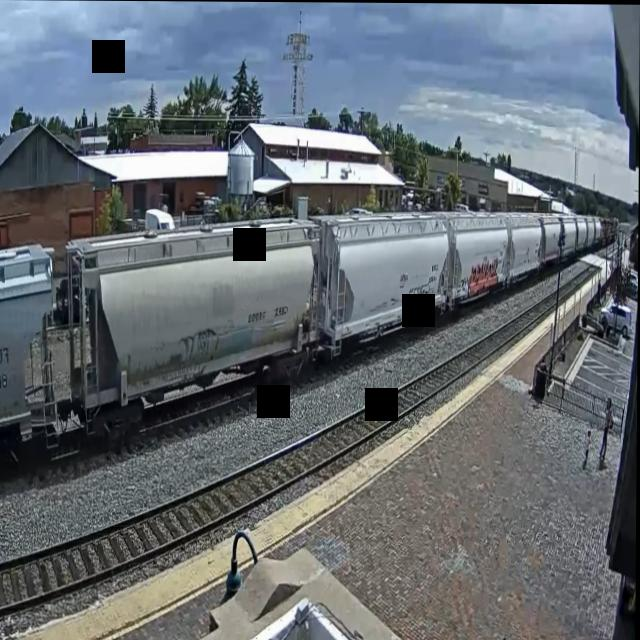hopper: (63, 202, 324, 460), (307, 204, 451, 364), (0, 227, 63, 486)
